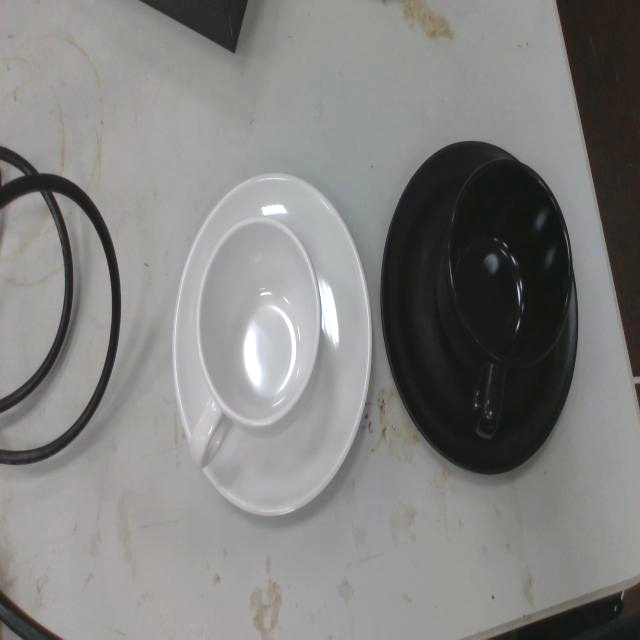black: (378, 138, 582, 480)
white: (170, 166, 374, 524)
